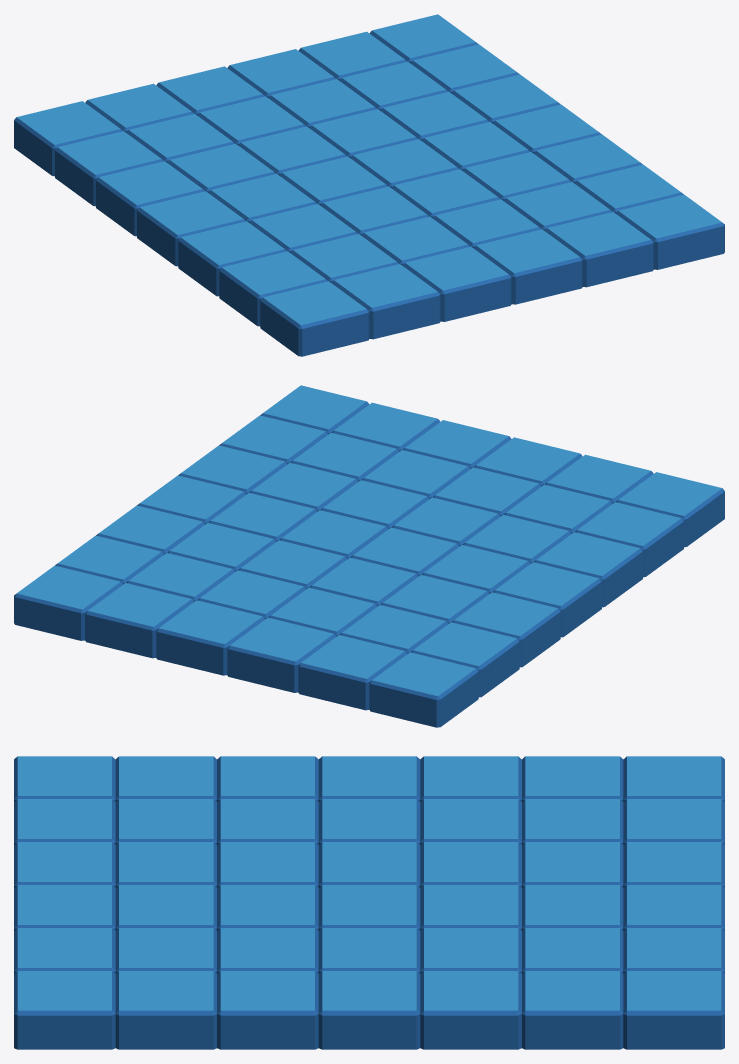
The picture shows the model from 3 angles, top to bottom: view 1: azimuth 30°, elevation 25°; view 2: azimuth 150°, elevation 25°; view 3: azimuth 270°, elevation 25°; orthographic projection. The views are drawn at different scales.
Parts seen in each view (by area): view 1: pCube30; view 2: pCube30; view 3: pCube30.
Part boxes in pixels (<box>): pCube30: <box>14,14,724,356</box>; pCube30: <box>14,385,724,727</box>; pCube30: <box>14,756,724,1049</box>.
Bounding box in the file's own units: 6 × 0.4072 × 7.
